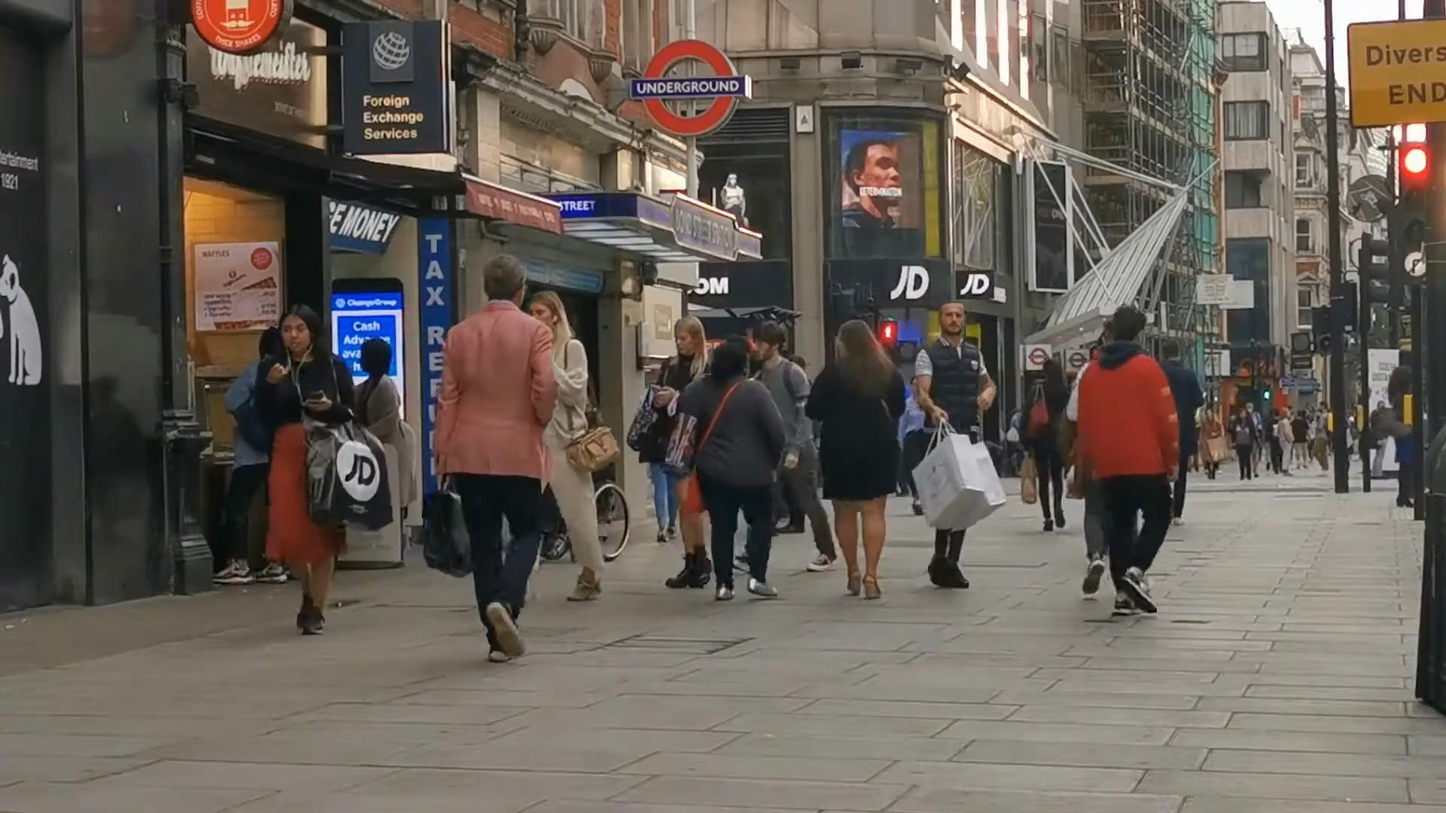no-helmet: (836, 320, 886, 375), (280, 305, 326, 356), (484, 254, 528, 307), (528, 290, 571, 338), (711, 341, 750, 393), (674, 315, 706, 357), (753, 321, 785, 363), (1114, 305, 1146, 344), (938, 300, 965, 337), (1043, 360, 1063, 389), (1161, 338, 1181, 361)
